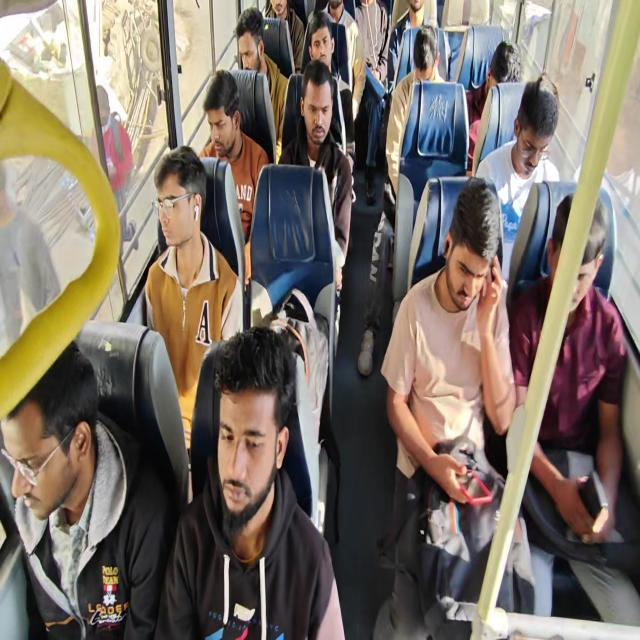person: (1, 1, 637, 638), (374, 175, 536, 638), (154, 324, 346, 638), (0, 338, 174, 638), (508, 191, 628, 544), (144, 144, 244, 502), (474, 73, 560, 280), (278, 59, 353, 293), (198, 69, 270, 283), (0, 160, 61, 357), (385, 24, 446, 203), (234, 6, 288, 162), (300, 10, 355, 162), (352, 0, 390, 204), (464, 40, 522, 172), (90, 84, 133, 257), (316, 0, 366, 122), (386, 0, 437, 92), (354, 0, 390, 84), (264, 0, 304, 75)
